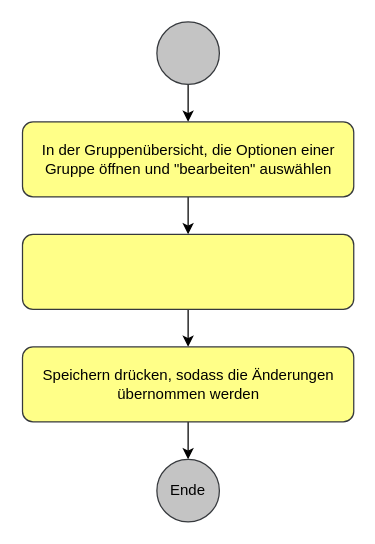
Image size: 375x544. Some labels were removed from this diagram. The centre of each missing label's shape, as x and y in pixels:
Start: (x=187, y=52)
Änderungen an der Gruppe tätigen: (x=187, y=271)
